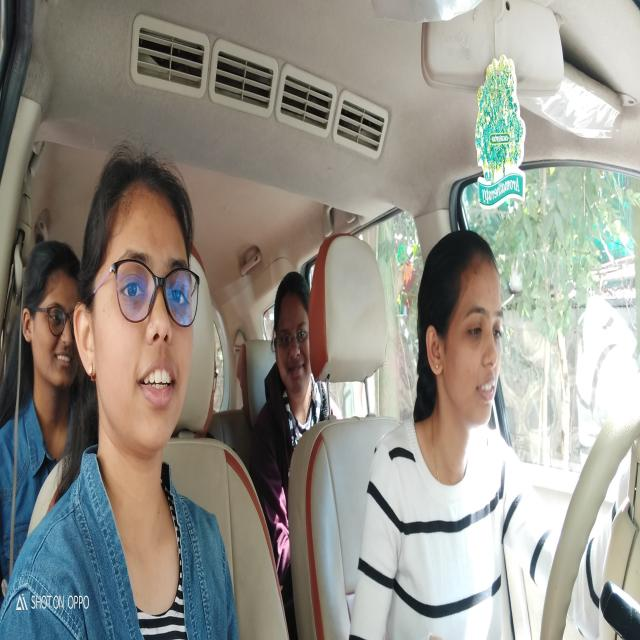person: (72, 147, 200, 459), (411, 220, 506, 454), (16, 228, 80, 393), (269, 268, 319, 404)
